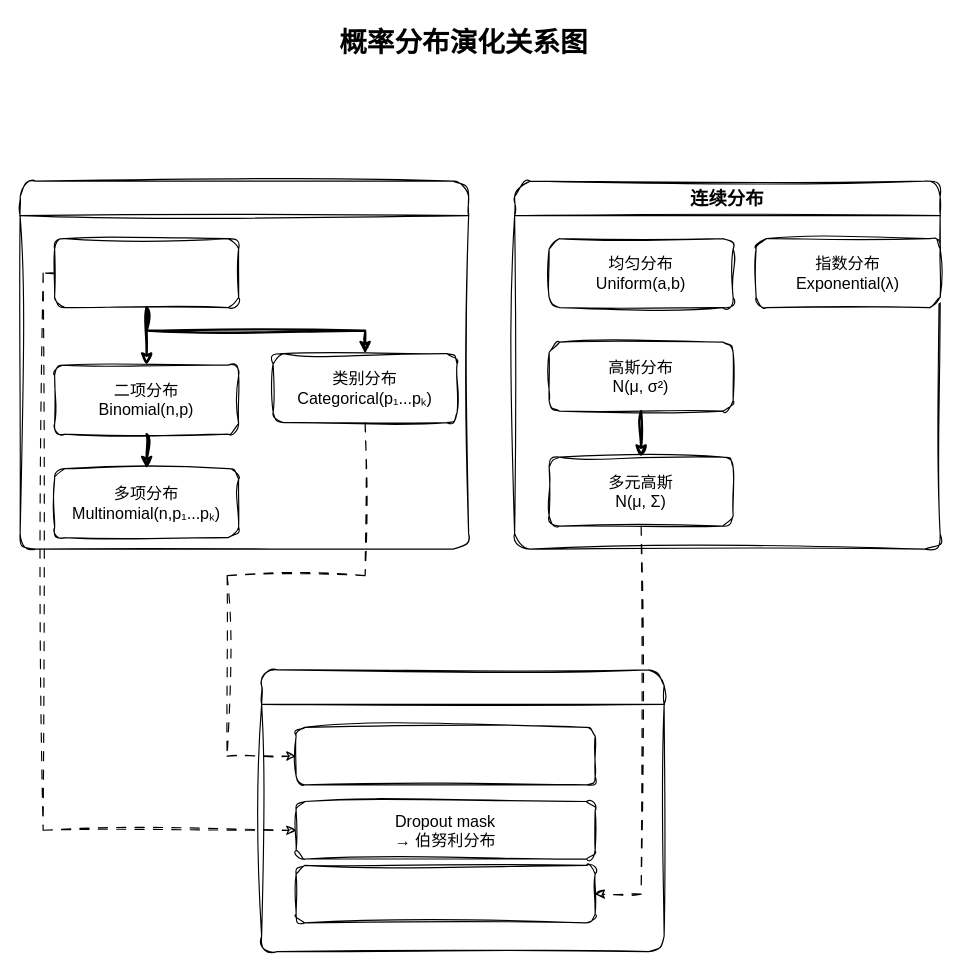
Image size: 960x972. Some labels were removed from this diagram. The box of each missing label's shape, as (x1, y1, x2, y2) in pixels:
伯努利分布 Bernoulli(p): (53, 237, 239, 308)
嵌入向量 → 多元高斯: (295, 864, 595, 923)
离散分布: (19, 180, 469, 549)
词索引概率分布 → 类别分布: (295, 726, 595, 785)
语言模型应用: (260, 669, 664, 952)
